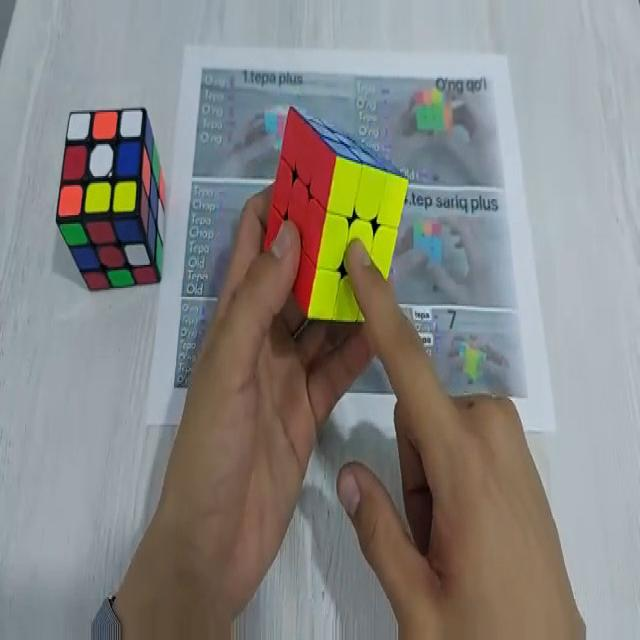Rub: (264, 103, 406, 333), (58, 105, 166, 291)
